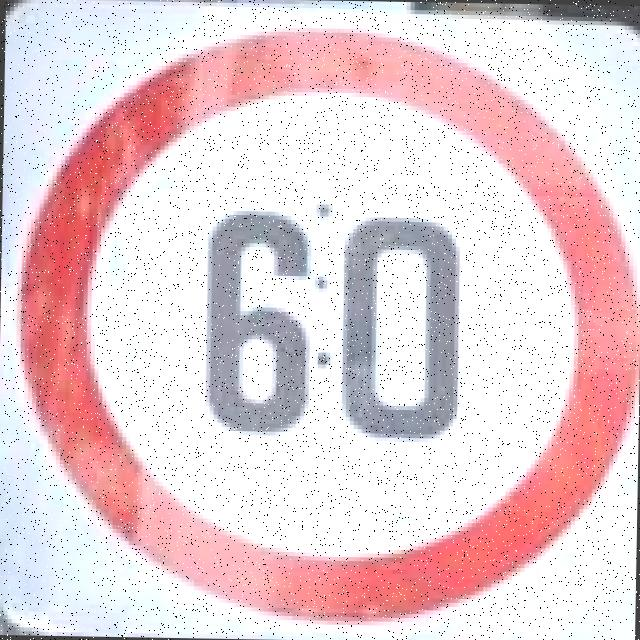Ograniczenie predkosci do 60: (11, 22, 640, 625)
